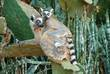cat: (25, 4, 85, 73)
